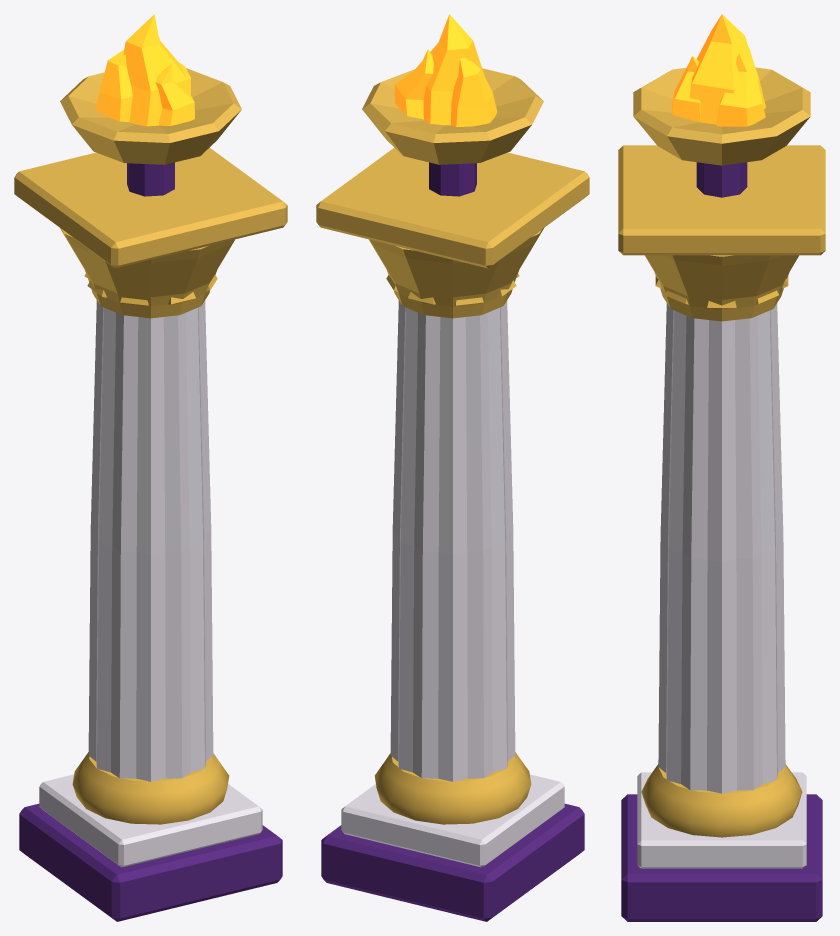
The model's file is gold_column.glb.
3 views of the same model, side by side, from view 1: azimuth 30°, elevation 25°; view 2: azimuth 150°, elevation 25°; view 3: azimuth 270°, elevation 25° (orthographic).
Parts seen in each view (by area): view 1: gold_column; view 2: gold_column; view 3: gold_column.
Part boxes in pixels (left/top/right/bottom): gold_column: left=14, top=14, right=287, bottom=921; gold_column: left=316, top=14, right=589, bottom=921; gold_column: left=618, top=14, right=825, bottom=921.
Size of the model in its own units: 0.98 by 4.53 by 0.98.
